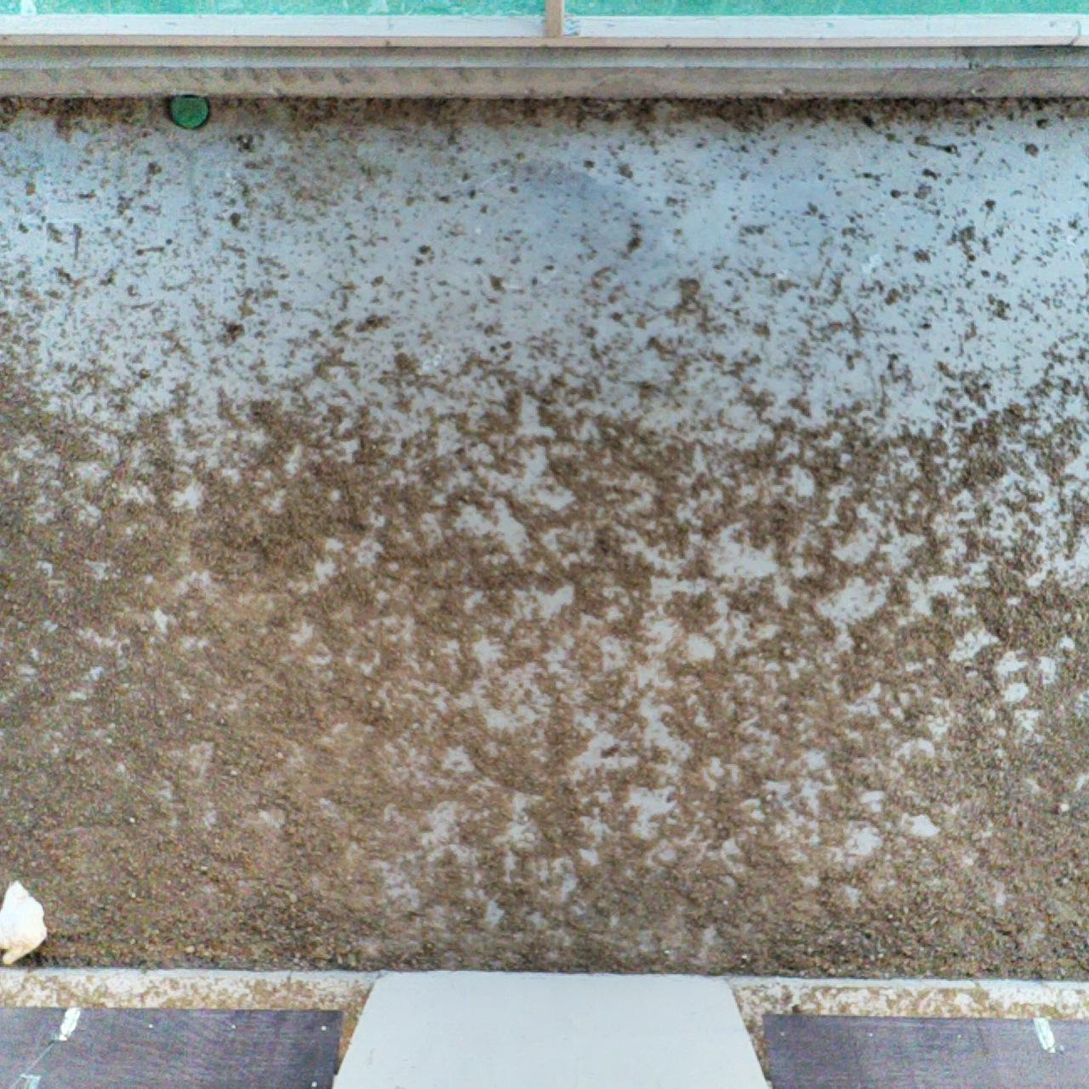chicken: (0, 877, 56, 967)
